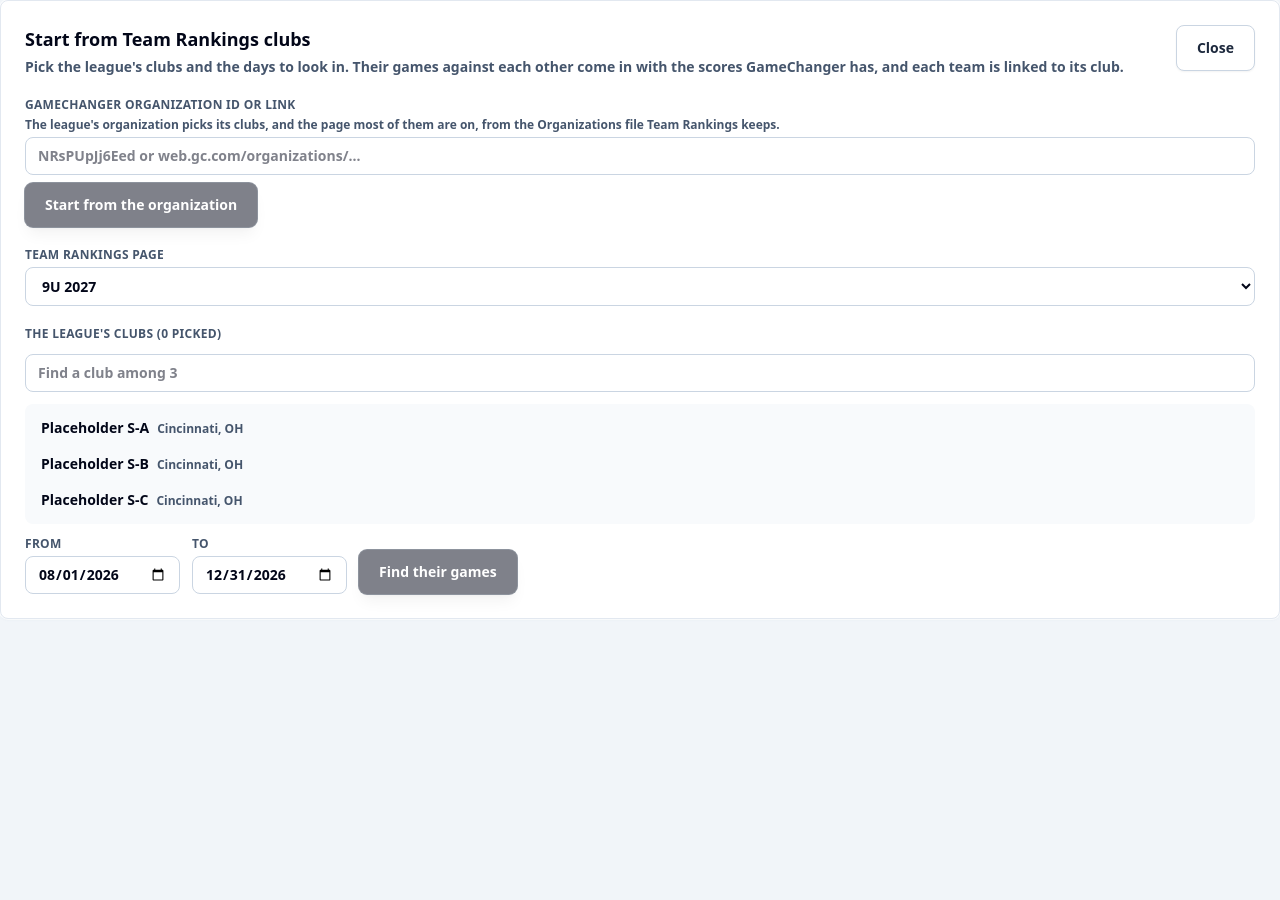
starting a season from its clubs on Team Rankings › says how many games start unticked and why, as the boxes below stand
Click the button with aria-label "Add Placeholder S-A". click: point(95, 428)
box: [33, 412, 1247, 444]
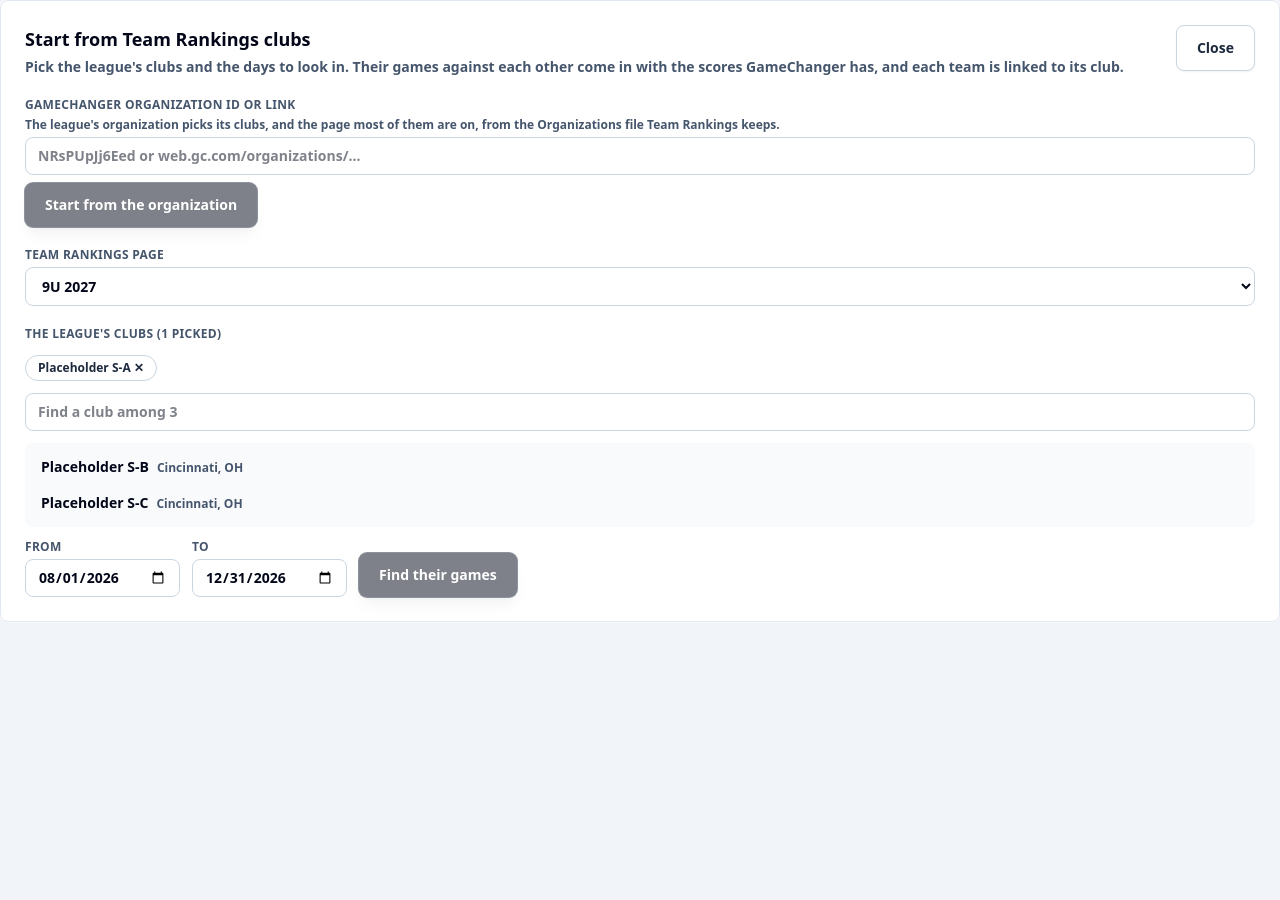
Click the button with aria-label "Add Placeholder S-B". click: point(95, 466)
box: [33, 451, 1247, 483]
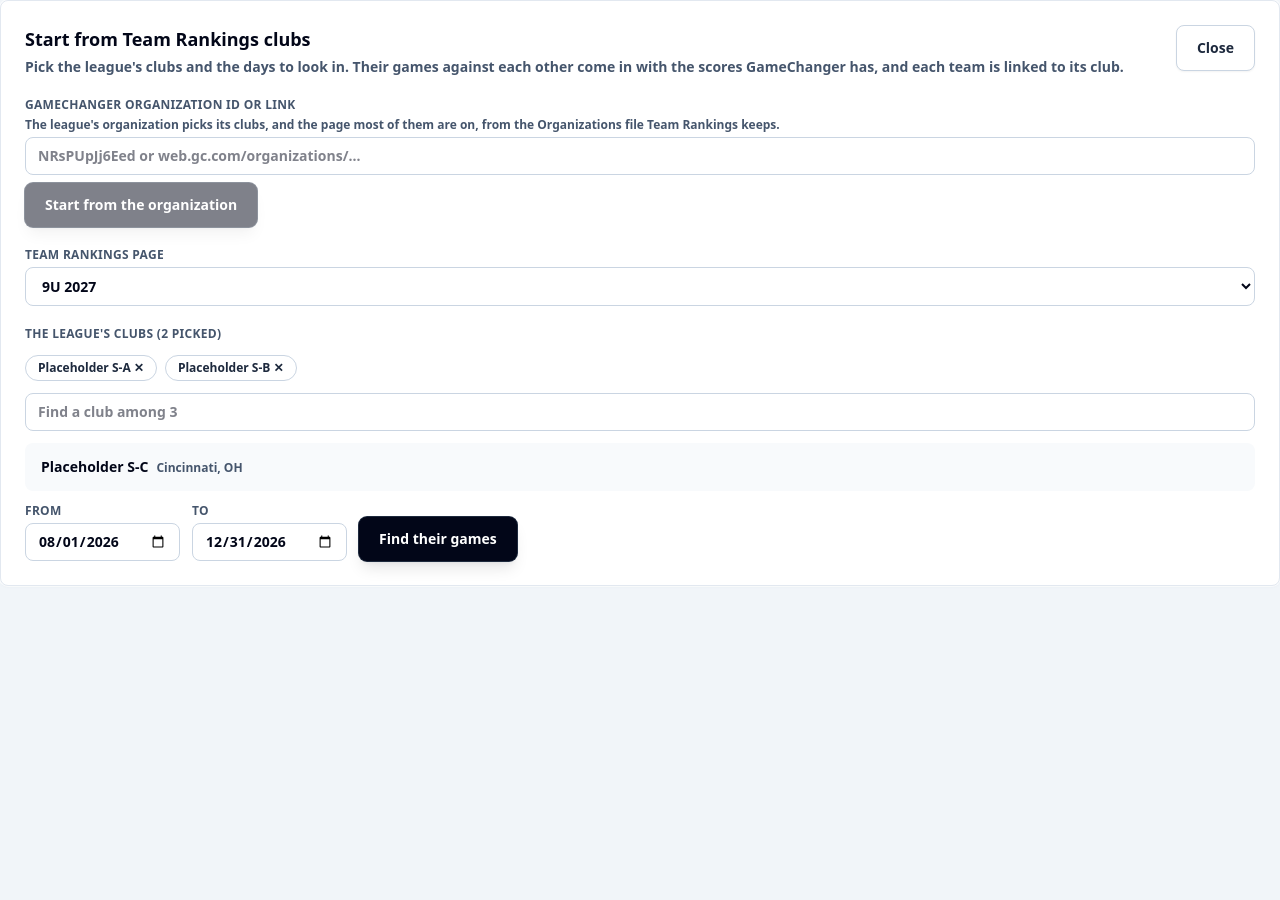
Click the button "Find their games". click: point(438, 539)
box: [359, 517, 517, 561]
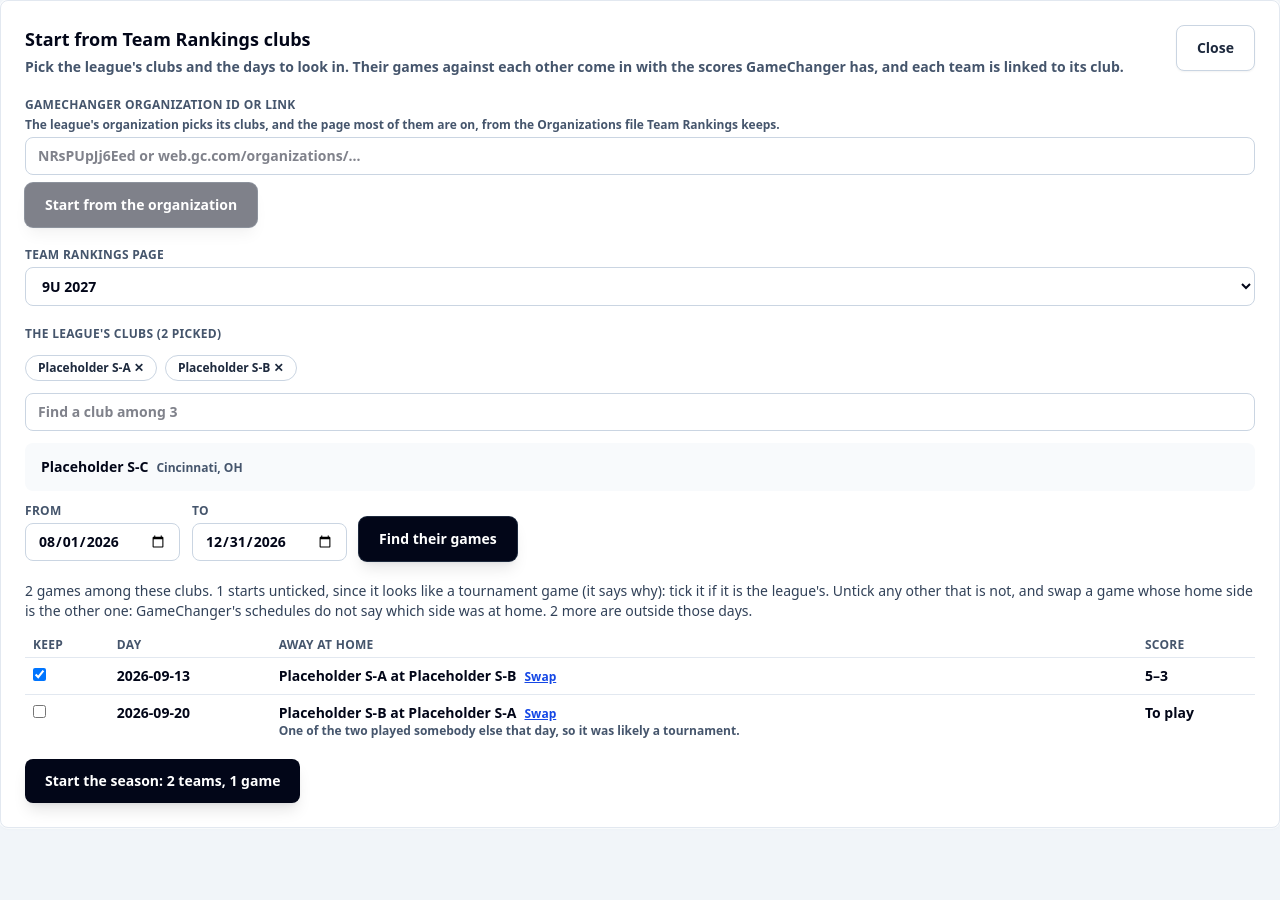
Expected: the text "2 games among these clubs. 1 starts unticked, since it looks like a tournament game (it says why): tick it if it is " is shown, [25, 581, 1253, 620]
